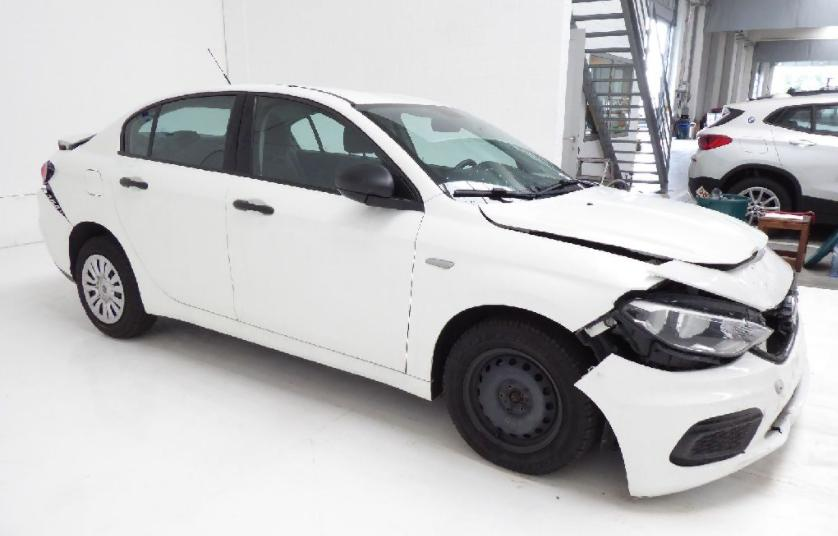Back-bumper: (38, 188, 74, 281)
Back-door: (111, 92, 244, 320)
Back-wheel: (76, 236, 157, 338)
Back-window: (151, 96, 236, 169), (124, 107, 156, 154)
Fender: (406, 193, 667, 383)
Front-bumper: (574, 308, 809, 498), (650, 245, 794, 312)
Front-door: (227, 93, 424, 373)
Front-wheel: (442, 317, 599, 474)
Front-window: (253, 97, 416, 200)
Headlight: (620, 298, 775, 357)
Hood: (478, 185, 768, 265)
Mirror: (336, 164, 424, 211)
Quarter-panel: (49, 150, 155, 281)
Rocker-panel: (137, 280, 432, 401)
Roof: (279, 85, 455, 109)
Tail-light: (42, 161, 55, 183)
Trunk: (59, 133, 96, 149)
Windshield: (354, 104, 599, 203)
